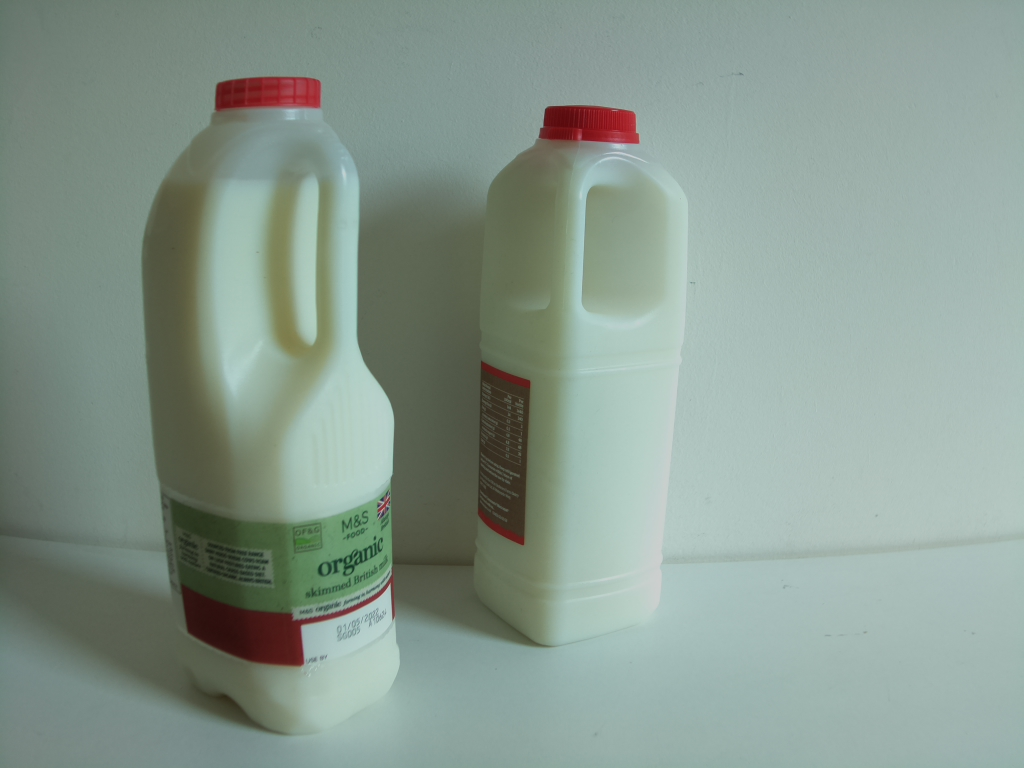milk: (138, 61, 412, 742), (463, 98, 698, 649)
